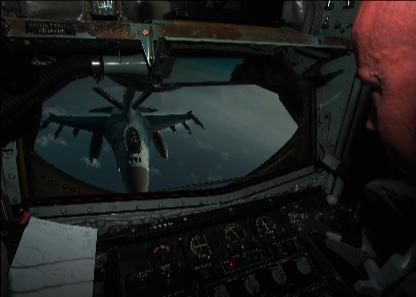F14: (37, 86, 205, 192)
